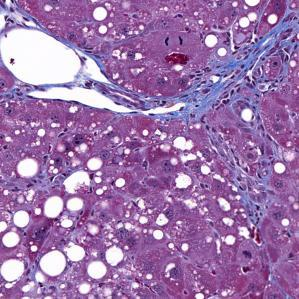fibrosis: (164, 45, 275, 127)
